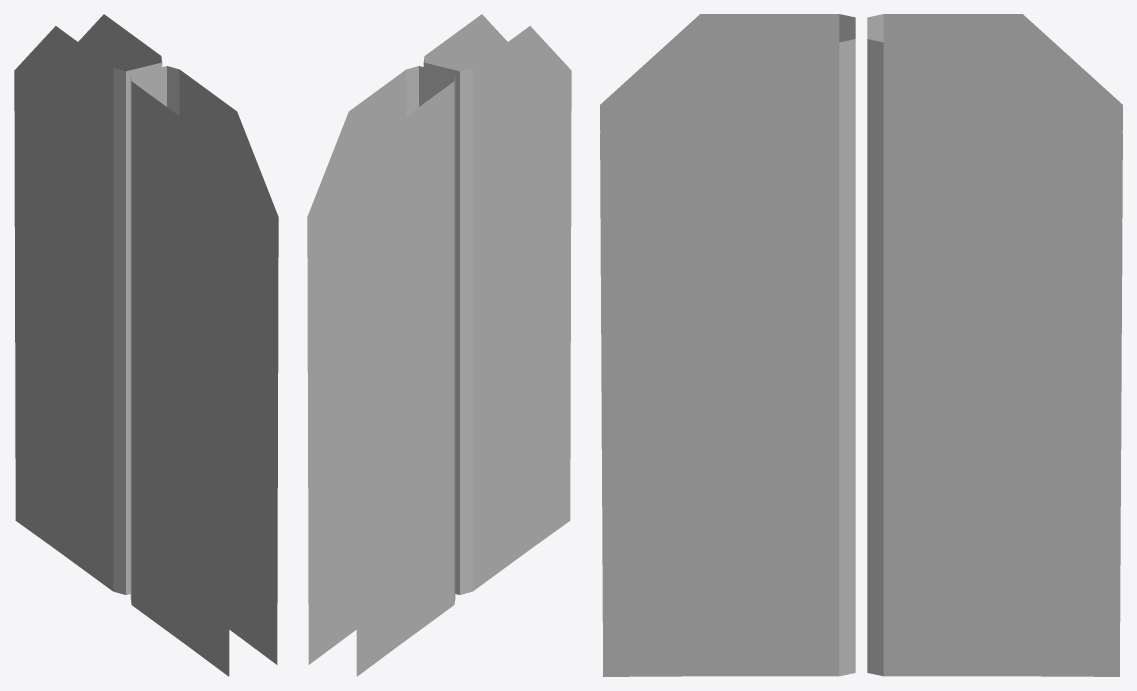
Rendered from SM_DoorClosed.fbx.
3 renders of one model, left to right at view 1: azimuth 30°, elevation 25°; view 2: azimuth 150°, elevation 25°; view 3: azimuth 270°, elevation 25°, orthographic. The views are drawn at different scales.
Parts seen in each view (by area): view 1: Cube.011; view 2: Cube.011; view 3: Cube.011.
Boxes of the visible parts, x1,y1,x2,y2 form: Cube.011: [14, 14, 278, 676]; Cube.011: [307, 14, 571, 676]; Cube.011: [600, 14, 1122, 676].
Size of the model in its own units: 122 by 15.68 by 163.
